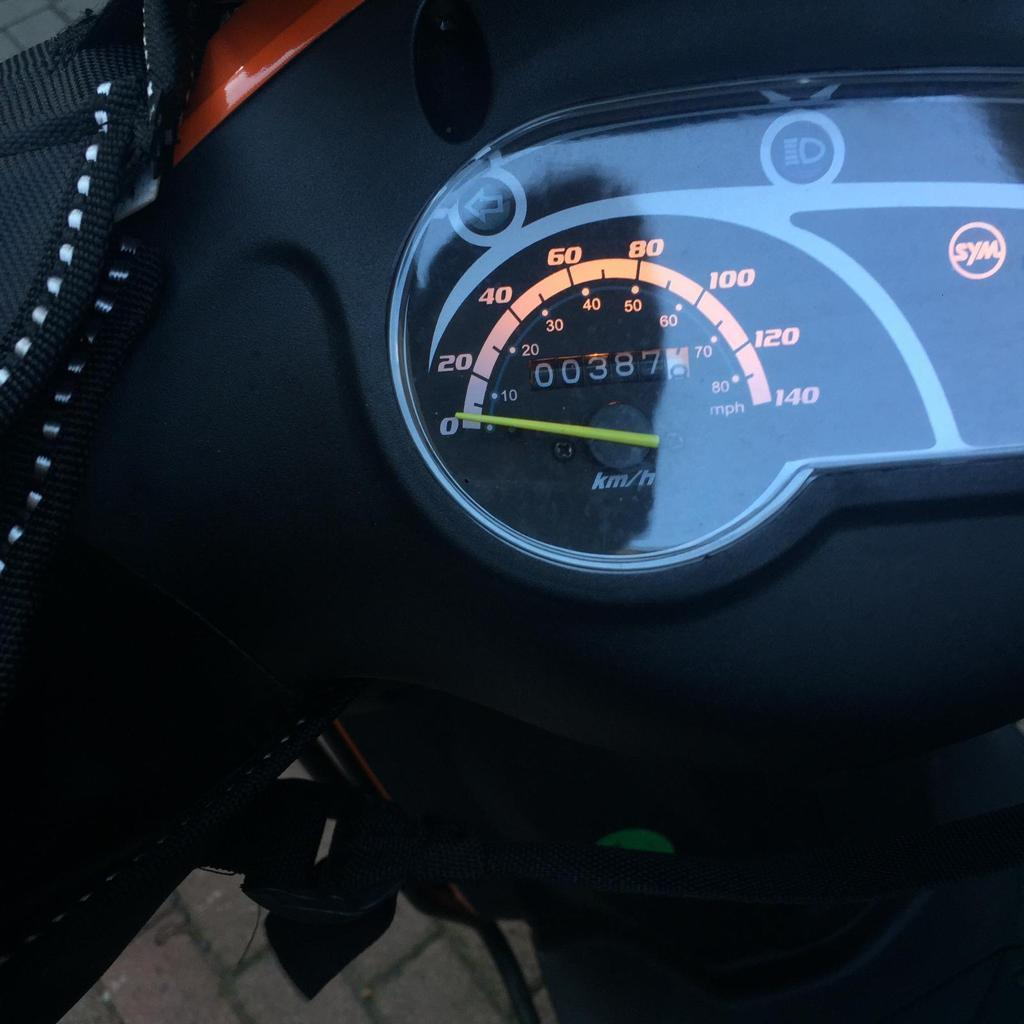0: (560, 358, 580, 384), (534, 362, 553, 388), (530, 343, 539, 356)
3: (588, 356, 607, 380)
7: (641, 349, 659, 375)
8: (614, 352, 634, 376), (669, 363, 688, 385)
odometer: (528, 343, 694, 394)
